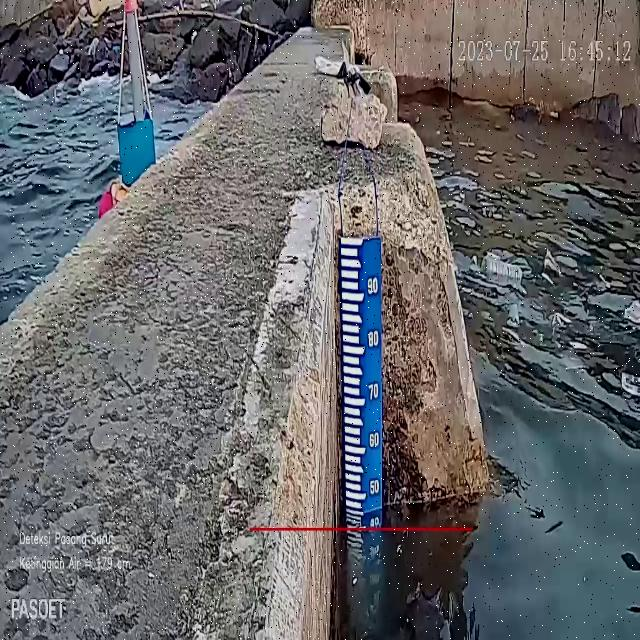50: (369, 478, 379, 496)
60: (369, 431, 380, 446)
70: (368, 383, 379, 402)
80: (368, 329, 380, 348)
90: (368, 276, 379, 296)
staff: (341, 235, 382, 527)
